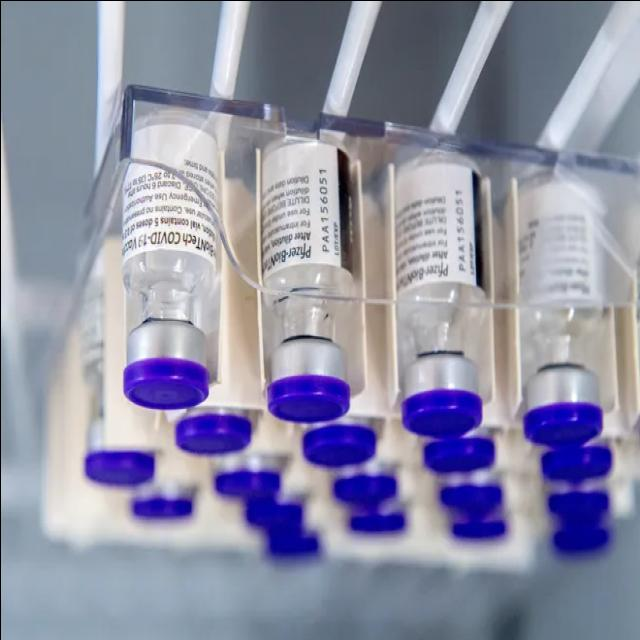vial: (264, 367, 352, 425), (400, 381, 486, 434), (121, 360, 209, 410), (168, 412, 248, 458), (300, 429, 380, 470), (318, 464, 397, 504), (541, 446, 613, 489), (519, 408, 600, 444), (424, 482, 504, 516), (426, 439, 500, 475), (86, 453, 158, 489), (206, 470, 284, 502), (534, 494, 614, 523), (254, 527, 322, 559), (130, 496, 198, 524), (560, 532, 617, 564), (242, 498, 302, 520), (338, 518, 404, 534), (450, 528, 508, 542), (79, 364, 108, 379)
